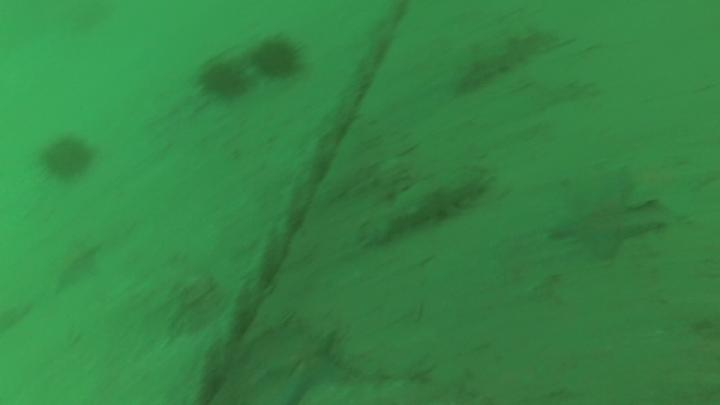echinus: (253, 40, 298, 78), (43, 142, 89, 177), (201, 67, 243, 98)
holothurian: (358, 168, 486, 245), (442, 26, 560, 91)
starfish: (547, 173, 668, 257), (264, 331, 348, 404)
